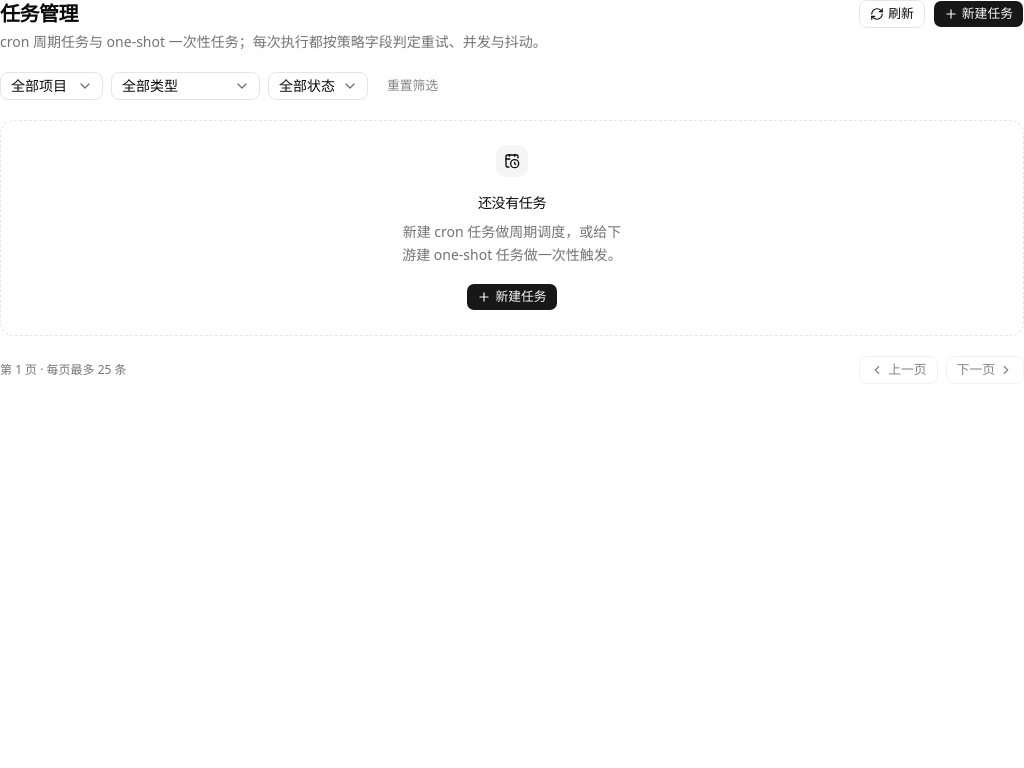
Test case: 任务管理页 › cron 字段数不符时在前端拦下，不发请求
Click the button "新建任务" in the row of "任务管理" at (978, 14), box left=933, top=0, right=1023, bottom=28
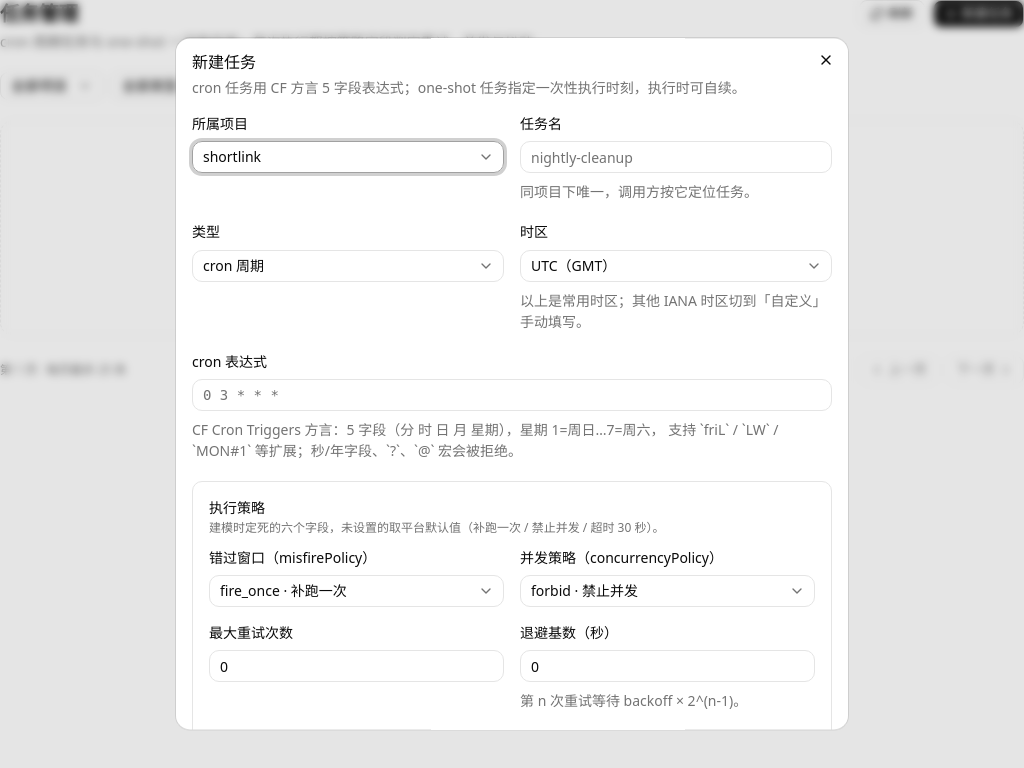
Type "bad-cron" into the field labelled "任务名" at (676, 158), box left=520, top=142, right=832, bottom=174
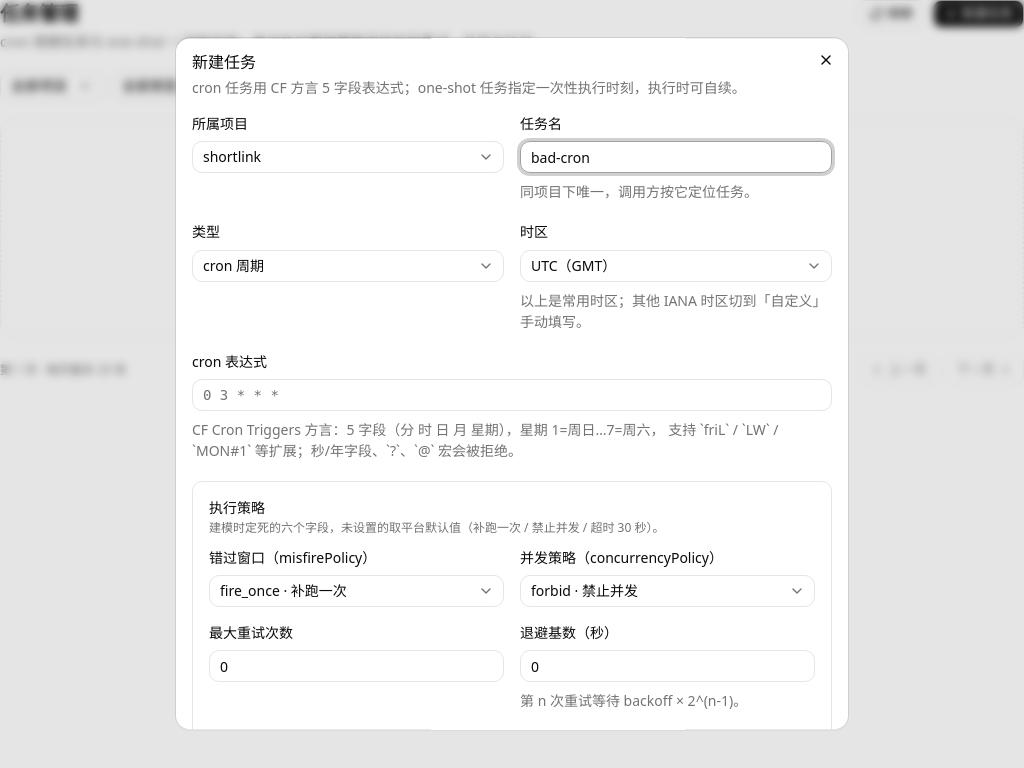
Type "0 3 * * * *" into the field labelled "cron 表达式" at (512, 395), box left=192, top=379, right=832, bottom=411
(page scrolled)
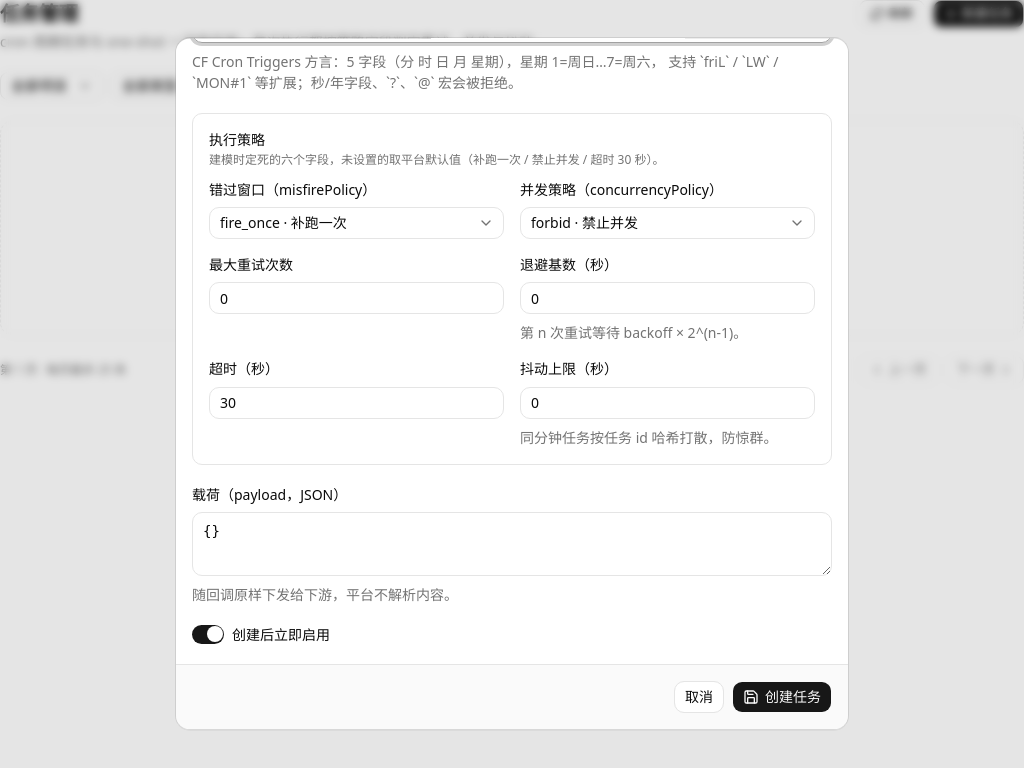
Click the button "创建任务" at (782, 697), box left=732, top=681, right=832, bottom=713
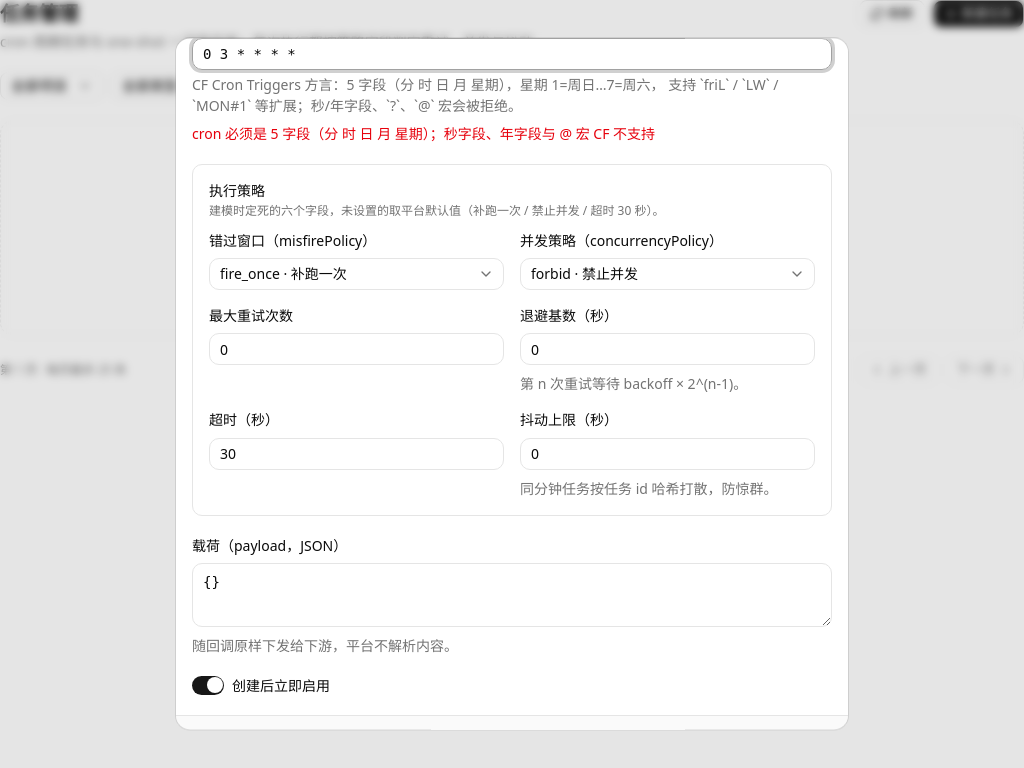
Now the text "cron 必须是 5 字段（分 时 日 月 星期）；秒字段、年字段与 @ 宏 CF 不支持" is shown, box left=192, top=124, right=655, bottom=143
